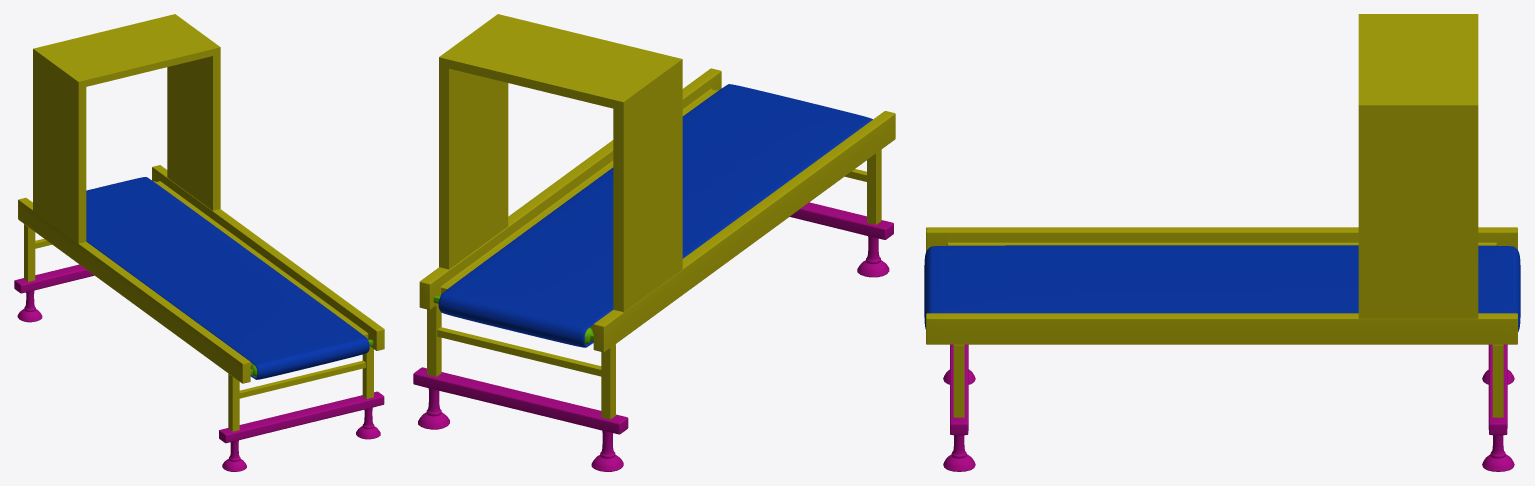
The model's file is ConveyorMachine.fbx.
The picture shows the model from 3 angles, left to right: view 1: azimuth 30°, elevation 25°; view 2: azimuth 150°, elevation 25°; view 3: azimuth 270°, elevation 25°; orthographic projection. The views are drawn at different scales.
Parts seen in each view (by area): view 1: belt, door, metal, legs; view 2: door, belt, metal, legs; view 3: door, belt, metal, legs.
Boxes of the visible parts, x1,y1,x2,y2 form: belt: (86,177,369,379); door: (33,14,220,243); metal: (18,165,384,431); legs: (14,264,384,471); door: (439,14,682,312); belt: (438,84,872,347); metal: (419,68,895,419); legs: (413,202,893,471); door: (1358,14,1478,318); belt: (924,245,1520,331); metal: (926,227,1517,417); legs: (943,344,1514,471).
Bounding box in the file's own units: 216 × 357 × 531.
